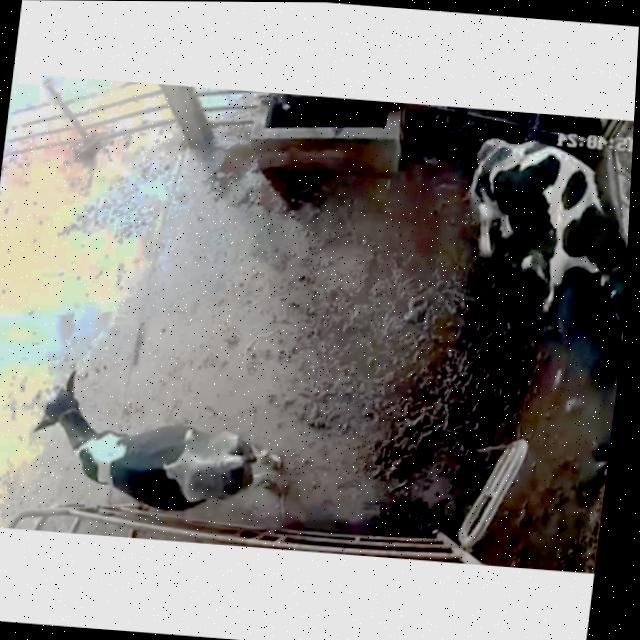ride: (411, 124, 634, 363)
